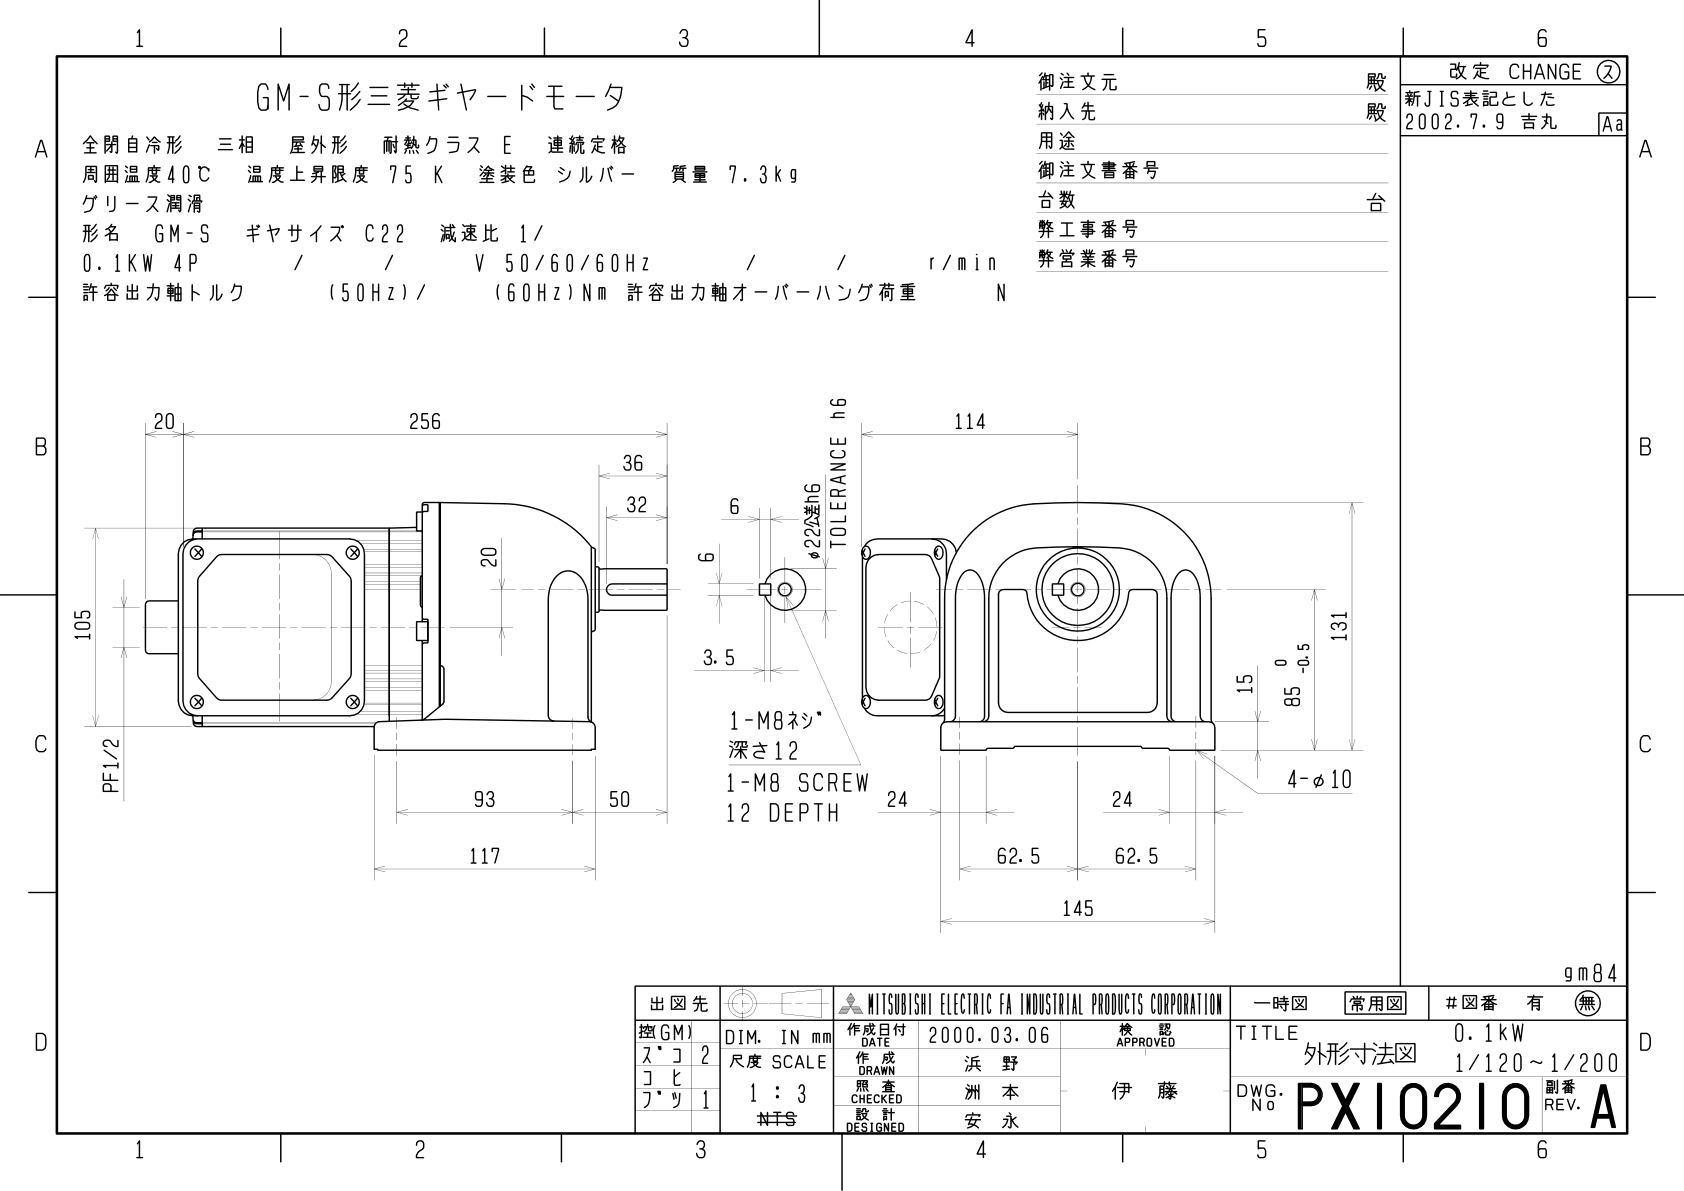GM_S_屋外＿三相_脚: (63, 361, 1386, 956)
